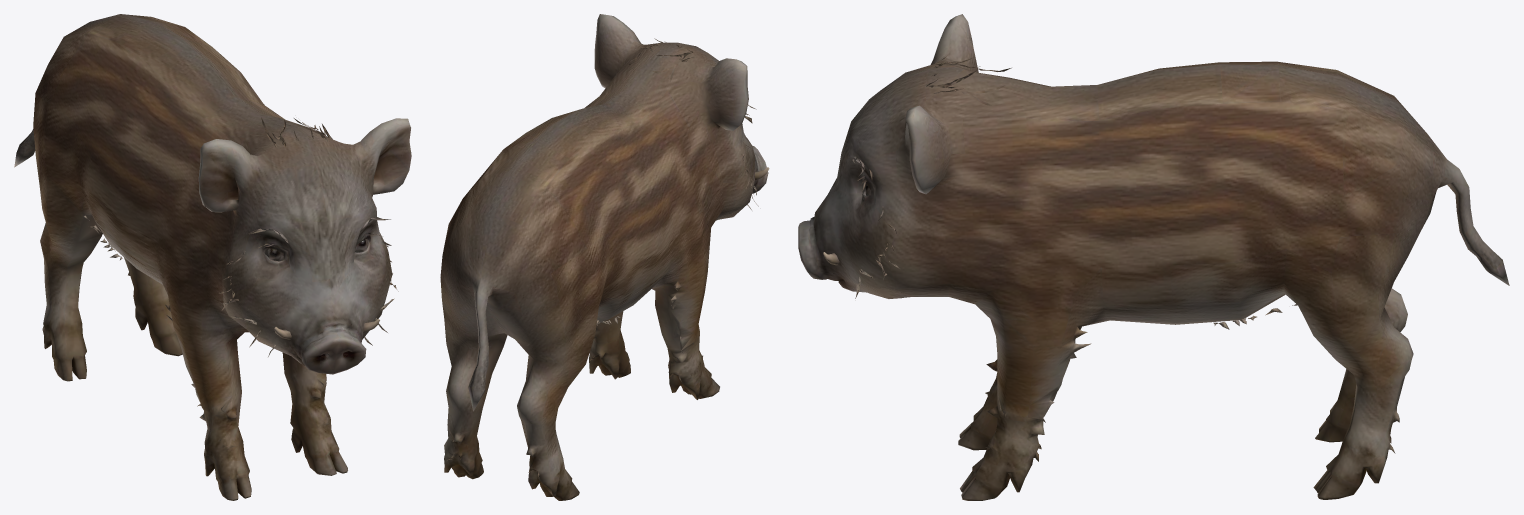
The model's file is leitao_listrado.glb.
The picture shows the model from 3 angles, left to right: view 1: azimuth 30°, elevation 25°; view 2: azimuth 150°, elevation 25°; view 3: azimuth 270°, elevation 25°; orthographic projection. The views are drawn at different scales.
Visible parts, largest first — view 1: Leitão listrado; view 2: Leitão listrado; view 3: Leitão listrado.
Part boxes in pixels (<box>): Leitão listrado: <box>14,14,411,500</box>; Leitão listrado: <box>440,14,769,500</box>; Leitão listrado: <box>798,14,1509,500</box>.
Bounding box in the file's own units: 0.3457 × 0.6387 × 0.998.
1 material, 1 textured.
